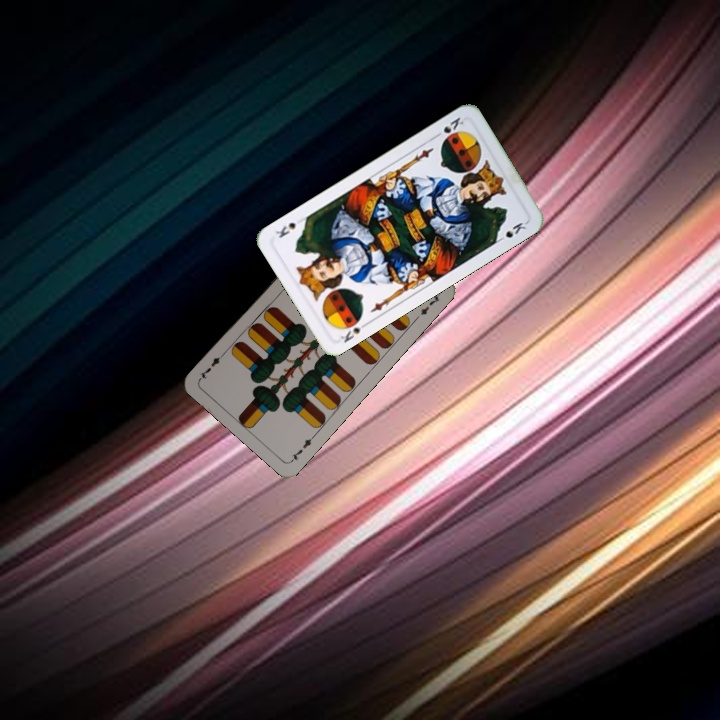E7: (287, 431, 318, 464)
SK: (430, 113, 466, 141), (337, 318, 371, 345)
